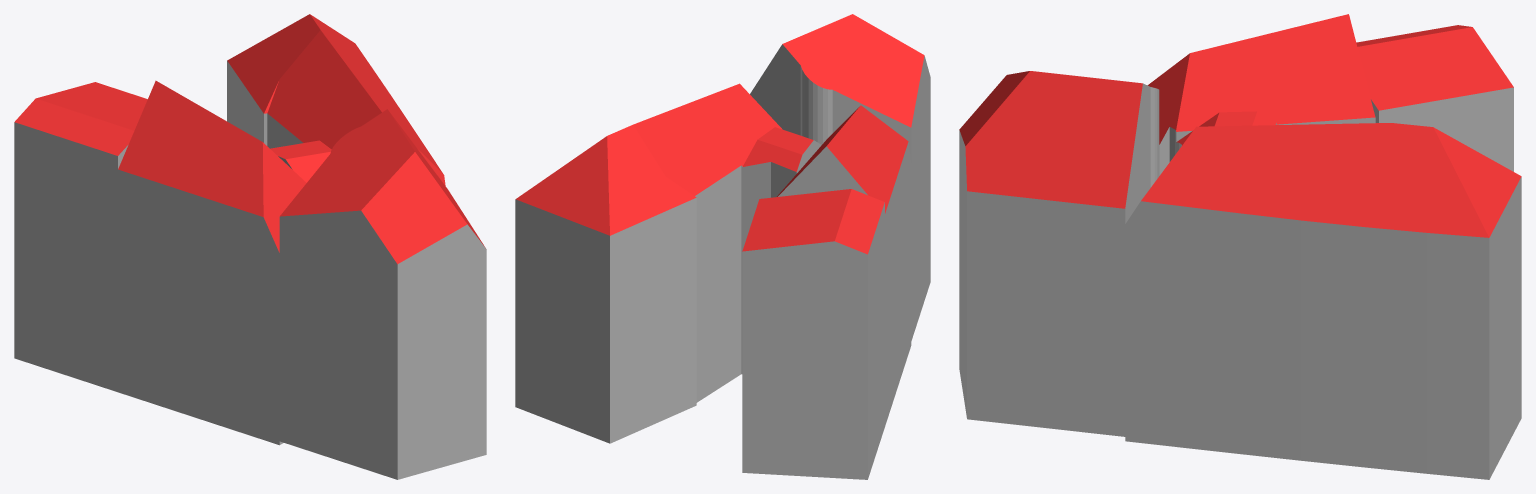
The model's file is DEBE3D04YY50000Qxi.dae.
3 renders of one model, left to right at view 1: azimuth 30°, elevation 25°; view 2: azimuth 150°, elevation 25°; view 3: azimuth 270°, elevation 25°, orthographic. The views are drawn at different scales.
Size of the model in its own units: 36.37 by 44.89 by 29.03.
